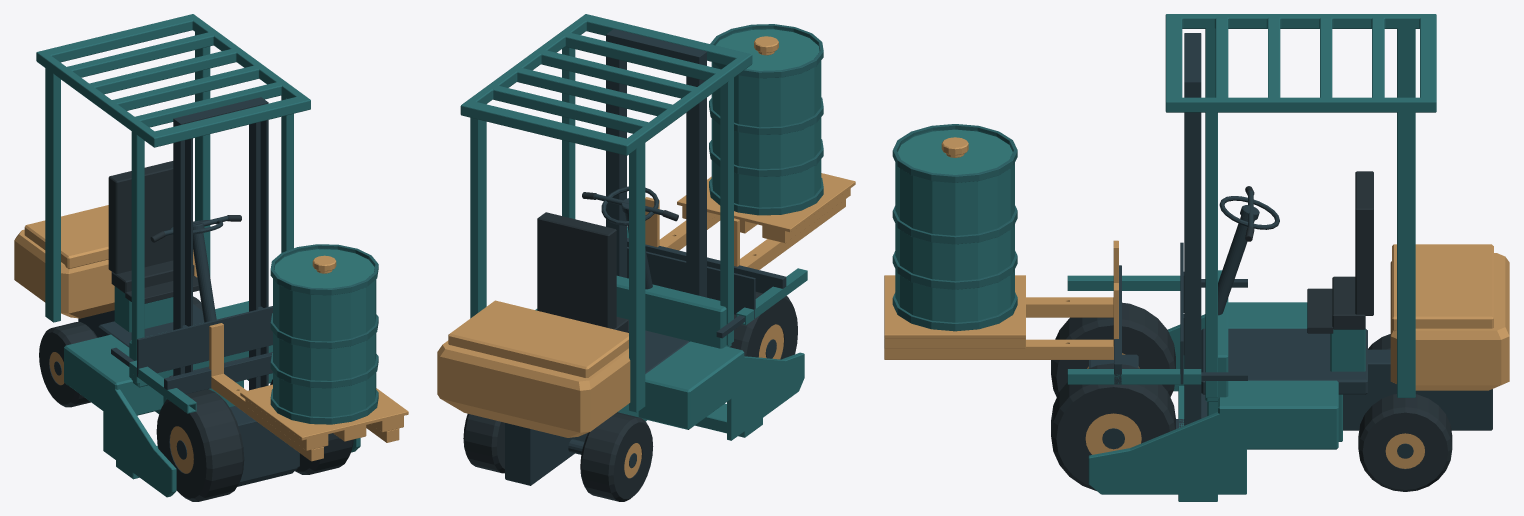
Rendered from forklift-loaded-drum.glb.
3 views of the same model, side by side, from view 1: azimuth 30°, elevation 25°; view 2: azimuth 150°, elevation 25°; view 3: azimuth 270°, elevation 25° (orthographic). The views are drawn at different scales.
Parts seen in each view (by area): view 1: forklift-loaded-drum__batch_06, forklift-loaded-drum__batch_05, forklift-loaded-drum__batch_01, forklift-loaded-drum__batch_07, forklift-loaded-drum__batch_28, forklift-loaded-drum__batch_24, forklift-loaded-drum__batch_08, forklift-loaded-drum__batch_03, forklift-loaded-drum__batch_00, forklift-loaded-drum__batch_02, forklift-loaded-drum__batch_10, forklift-loaded-drum__batch_16 (+5 smaller); view 2: forklift-loaded-drum__batch_06, forklift-loaded-drum__batch_07, forklift-loaded-drum__batch_05, forklift-loaded-drum__batch_01, forklift-loaded-drum__batch_28, forklift-loaded-drum__batch_16, forklift-loaded-drum__batch_03, forklift-loaded-drum__batch_00, forklift-loaded-drum__batch_02, forklift-loaded-drum__batch_08, forklift-loaded-drum__batch_24, forklift-loaded-drum__batch_19 (+6 smaller); view 3: forklift-loaded-drum__batch_06, forklift-loaded-drum__batch_05, forklift-loaded-drum__batch_01, forklift-loaded-drum__batch_07, forklift-loaded-drum__batch_27, forklift-loaded-drum__batch_19, forklift-loaded-drum__batch_03, forklift-loaded-drum__batch_28, forklift-loaded-drum__batch_00, forklift-loaded-drum__batch_24, forklift-loaded-drum__batch_11, forklift-loaded-drum__batch_13 (+6 smaller).
Part boxes in pixels (bbox=[...]): forklift-loaded-drum__batch_06: bbox=[36, 14, 360, 497]; forklift-loaded-drum__batch_05: bbox=[78, 97, 299, 486]; forklift-loaded-drum__batch_01: bbox=[273, 248, 376, 416]; forklift-loaded-drum__batch_07: bbox=[14, 205, 197, 318]; forklift-loaded-drum__batch_28: bbox=[108, 161, 199, 303]; forklift-loaded-drum__batch_24: bbox=[156, 389, 244, 501]; forklift-loaded-drum__batch_08: bbox=[137, 306, 272, 376]; forklift-loaded-drum__batch_03: bbox=[270, 244, 378, 424]; forklift-loaded-drum__batch_00: bbox=[240, 255, 408, 450]; forklift-loaded-drum__batch_02: bbox=[274, 249, 374, 288]; forklift-loaded-drum__batch_10: bbox=[209, 323, 323, 461]; forklift-loaded-drum__batch_16: bbox=[39, 322, 97, 407]; forklift-loaded-drum__batch_06: bbox=[460, 14, 804, 440]; forklift-loaded-drum__batch_07: bbox=[437, 300, 630, 437]; forklift-loaded-drum__batch_05: bbox=[505, 29, 706, 485]; forklift-loaded-drum__batch_01: bbox=[711, 28, 821, 207]; forklift-loaded-drum__batch_28: bbox=[537, 212, 628, 332]; forklift-loaded-drum__batch_16: bbox=[580, 412, 653, 501]; forklift-loaded-drum__batch_03: bbox=[709, 24, 823, 215]; forklift-loaded-drum__batch_00: bbox=[677, 36, 855, 243]; forklift-loaded-drum__batch_02: bbox=[716, 29, 819, 70]; forklift-loaded-drum__batch_08: bbox=[627, 247, 755, 318]; forklift-loaded-drum__batch_24: bbox=[730, 292, 797, 359]; forklift-loaded-drum__batch_19: bbox=[463, 414, 504, 473]; forklift-loaded-drum__batch_06: bbox=[1088, 14, 1436, 501]; forklift-loaded-drum__batch_05: bbox=[1088, 33, 1492, 430]; forklift-loaded-drum__batch_01: bbox=[895, 129, 1014, 322]; forklift-loaded-drum__batch_07: bbox=[1390, 244, 1509, 390]; forklift-loaded-drum__batch_27: bbox=[1051, 363, 1175, 490]; forklift-loaded-drum__batch_19: bbox=[1358, 394, 1452, 491]; forklift-loaded-drum__batch_03: bbox=[892, 124, 1017, 331]; forklift-loaded-drum__batch_28: bbox=[1307, 171, 1373, 333]; forklift-loaded-drum__batch_00: bbox=[884, 137, 1025, 348]; forklift-loaded-drum__batch_24: bbox=[1051, 302, 1175, 397]; forklift-loaded-drum__batch_11: bbox=[884, 283, 1118, 359]; forklift-loaded-drum__batch_13: bbox=[1067, 275, 1201, 384].
Bounding box in the file's own units: 1.2 × 2.1 × 3.
